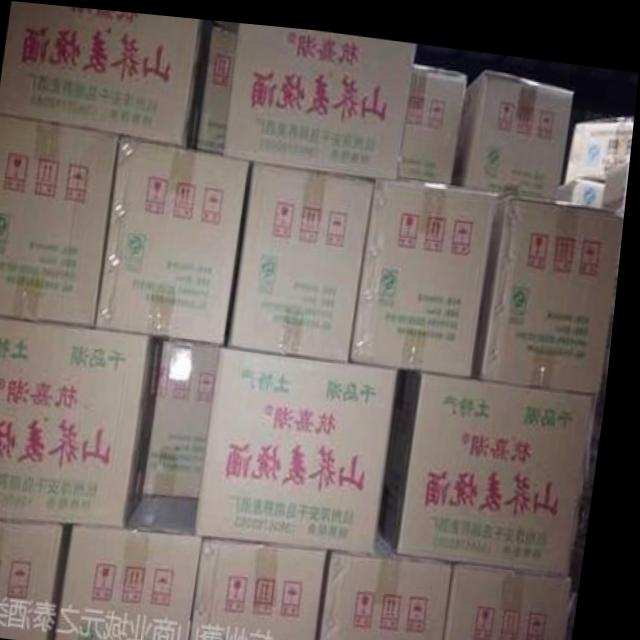box: (388, 360, 603, 564), (205, 341, 406, 545), (0, 316, 166, 524), (102, 134, 253, 338), (0, 1, 209, 146), (355, 169, 502, 367), (226, 18, 417, 170), (478, 185, 625, 380), (232, 156, 378, 351), (0, 114, 121, 326), (67, 492, 214, 640), (329, 520, 465, 640), (454, 61, 572, 190), (202, 531, 338, 640), (149, 332, 230, 496), (455, 550, 581, 640), (0, 517, 82, 639), (400, 56, 466, 176), (196, 16, 238, 150), (567, 104, 635, 172), (563, 142, 632, 202)
